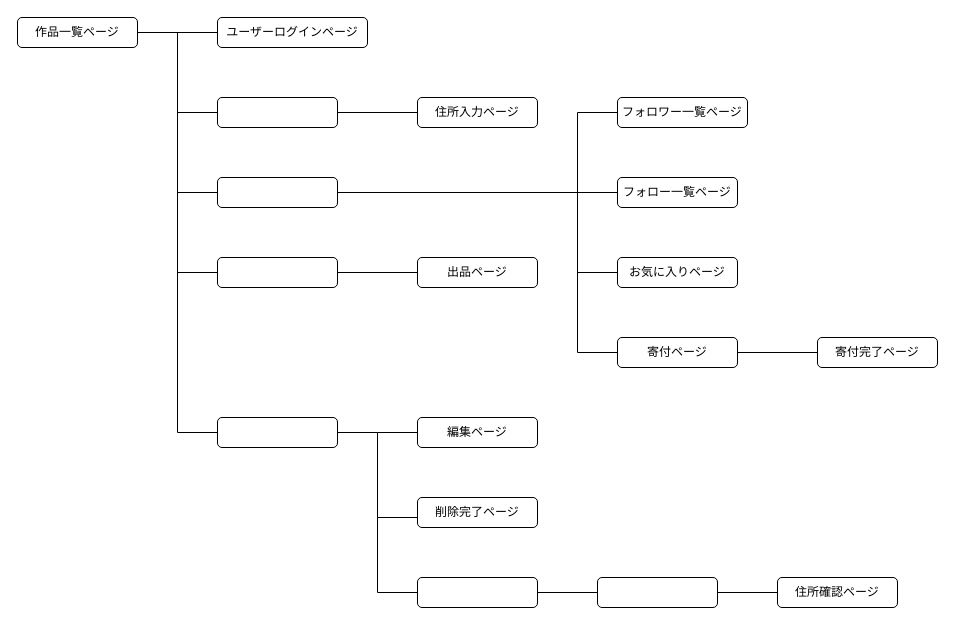
The diagram is 955 pixels wide and 625 high, and some of its shapes have lost their labels. Each missing label, with the centre of its shape:
"カード入力ページ" goes at [657,592].
"ユーザーマイページ" goes at [277,192].
"ユーザー新規ページ" goes at [277,112].
"作品詳細ページ" goes at [277,432].
"投稿ページ" goes at [277,272].
"購入ページ" goes at [477,592].
